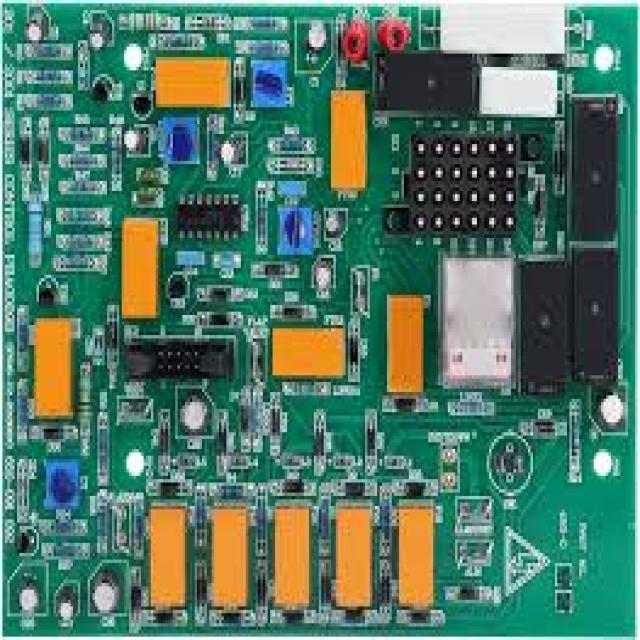pcb: (0, 0, 638, 637), (397, 127, 518, 238), (436, 248, 518, 392)
